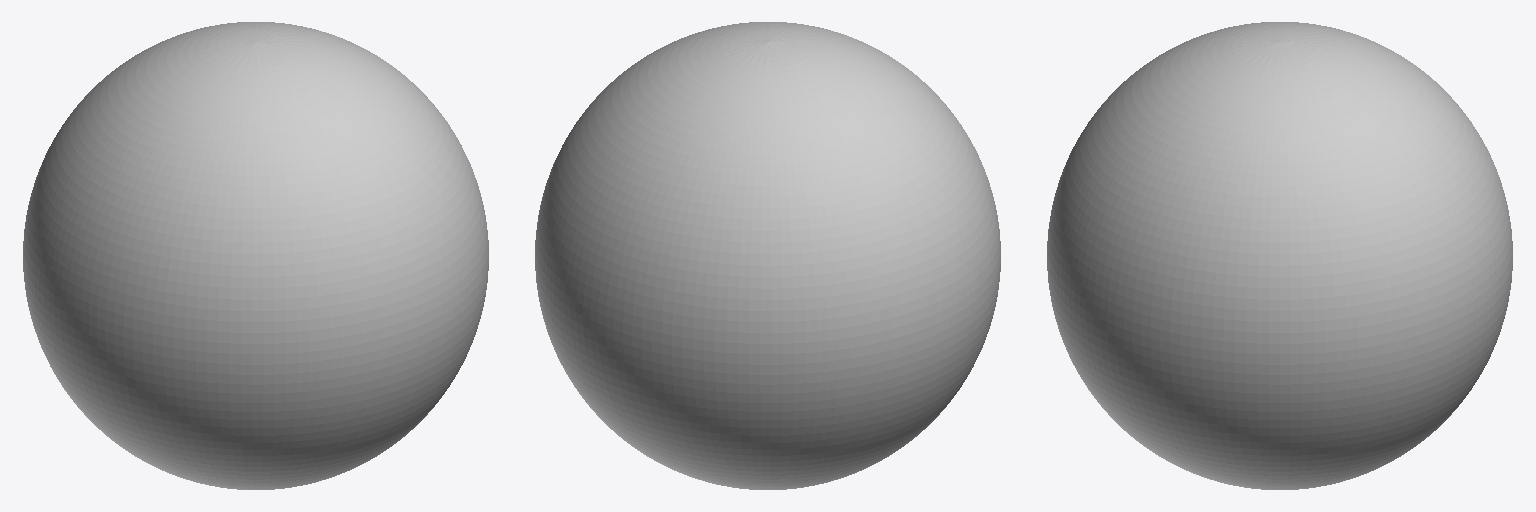
The model's file is target.obj.
3 renders of one model, left to right at view 1: azimuth 30°, elevation 25°; view 2: azimuth 150°, elevation 25°; view 3: azimuth 270°, elevation 25°, orthographic.
Parts seen in each view (by area): view 1: Esfera_UV.001; view 2: Esfera_UV.001; view 3: Esfera_UV.001.
Boxes of the visible parts, <box> form: Esfera_UV.001: <box>23,22,488,489</box>; Esfera_UV.001: <box>535,22,1000,489</box>; Esfera_UV.001: <box>1047,22,1512,489</box>.
Bounding box in the file's own units: 19.74 × 19.95 × 19.74.